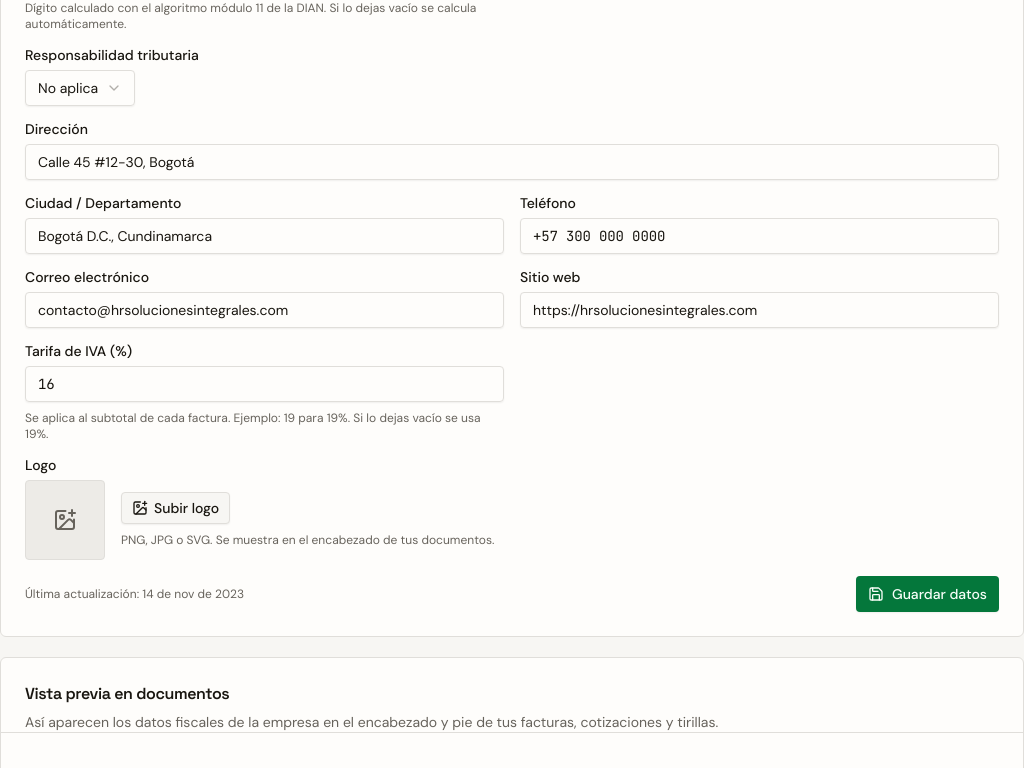
Test case: CompanyPage › rejects an out-of-range tax rate before saving
(page scrolled)
Replace the text in the field with test id "company.tax_rate_input" with "150": (264, 384) [25,366,504,402]
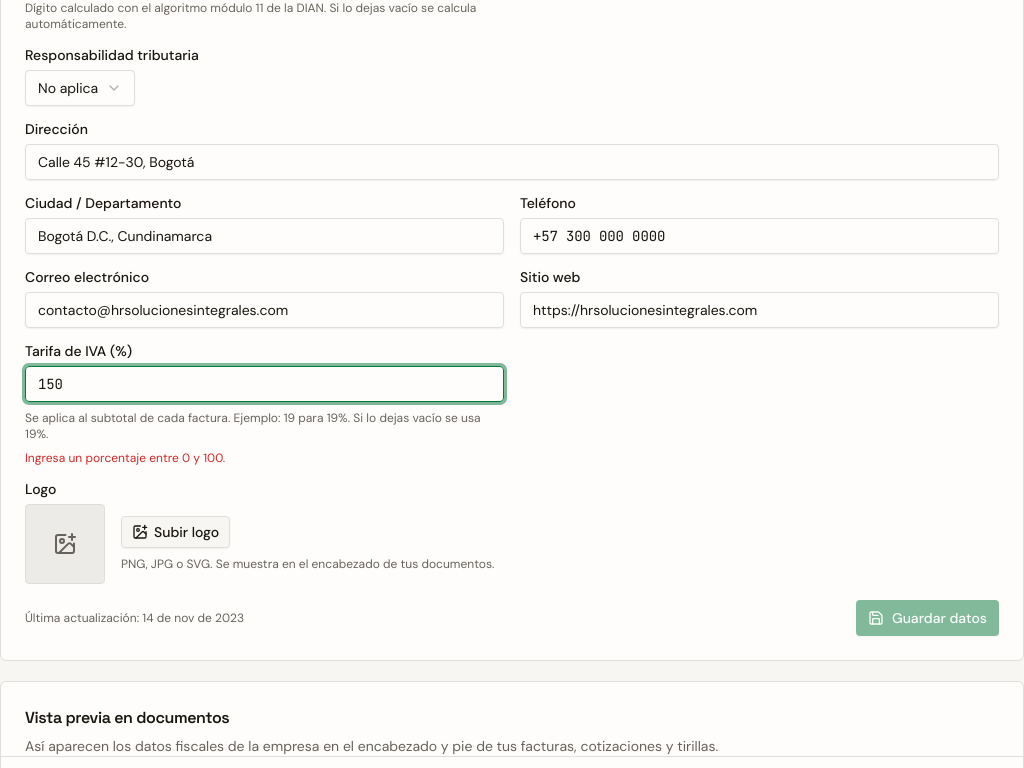
Check: the text "Ingresa un porcentaje entre 0 y 100." is shown, box [25,450,225,466]
Check: the button with test id "company.save_button" is disabled, box [856,600,999,636]
